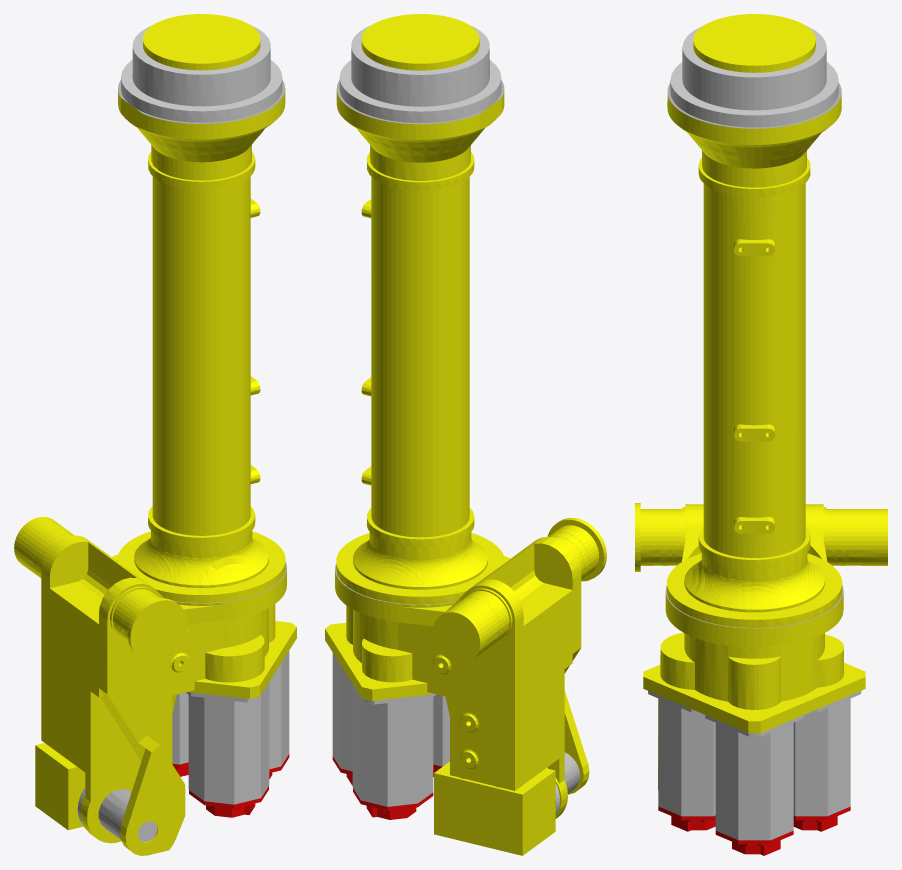
3 views of the same model, side by side, from view 1: azimuth 30°, elevation 25°; view 2: azimuth 150°, elevation 25°; view 3: azimuth 270°, elevation 25° (orthographic). The views are drawn at different scales.
Visible parts, largest first — view 1: node; view 2: node; view 3: node.
Part boxes in pixels (left/top/right/bottom): node: left=14, top=14, right=296, bottom=855; node: left=325, top=14, right=606, bottom=855; node: left=635, top=14, right=887, bottom=855.
Bounding box in the file's own units: 454 × 1469 × 421.
